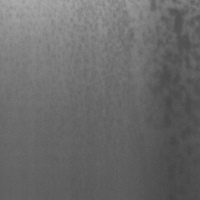pitted_surface: (7, 1, 137, 135), (144, 1, 199, 198)
